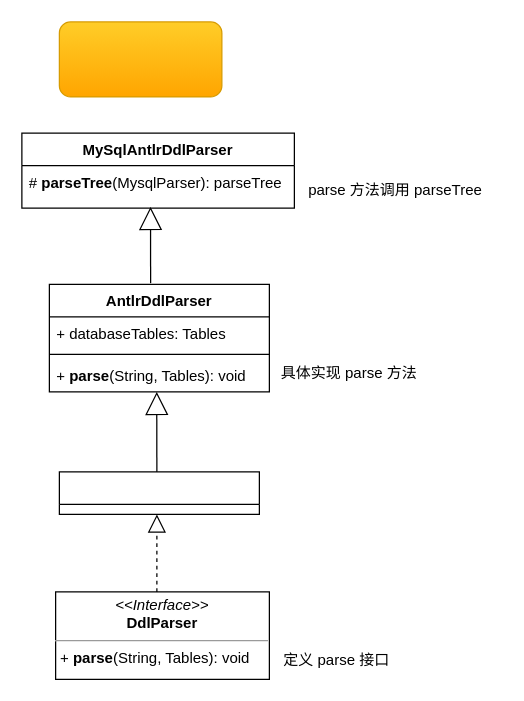
Some shapes in this 524 by 701 pixel diagram are drawn without their labels. The centre of each missing label's shape, as x and y in pixels:
AbstractDdlParser: (x=158, y=492)
parse 方法的调用关系: (x=140, y=59)
